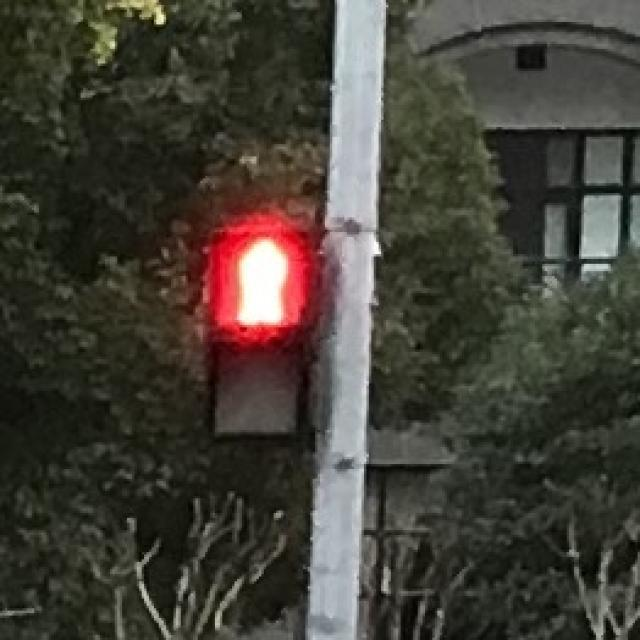red_light: (218, 224, 306, 334)
